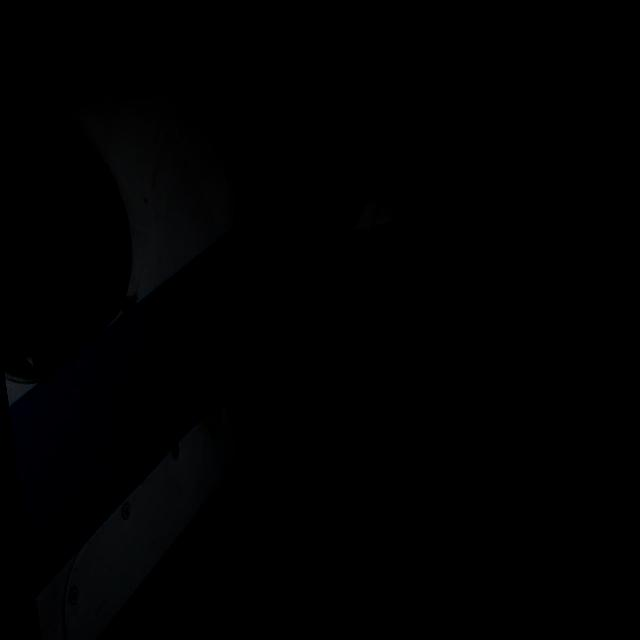crack: (316, 173, 353, 228)
